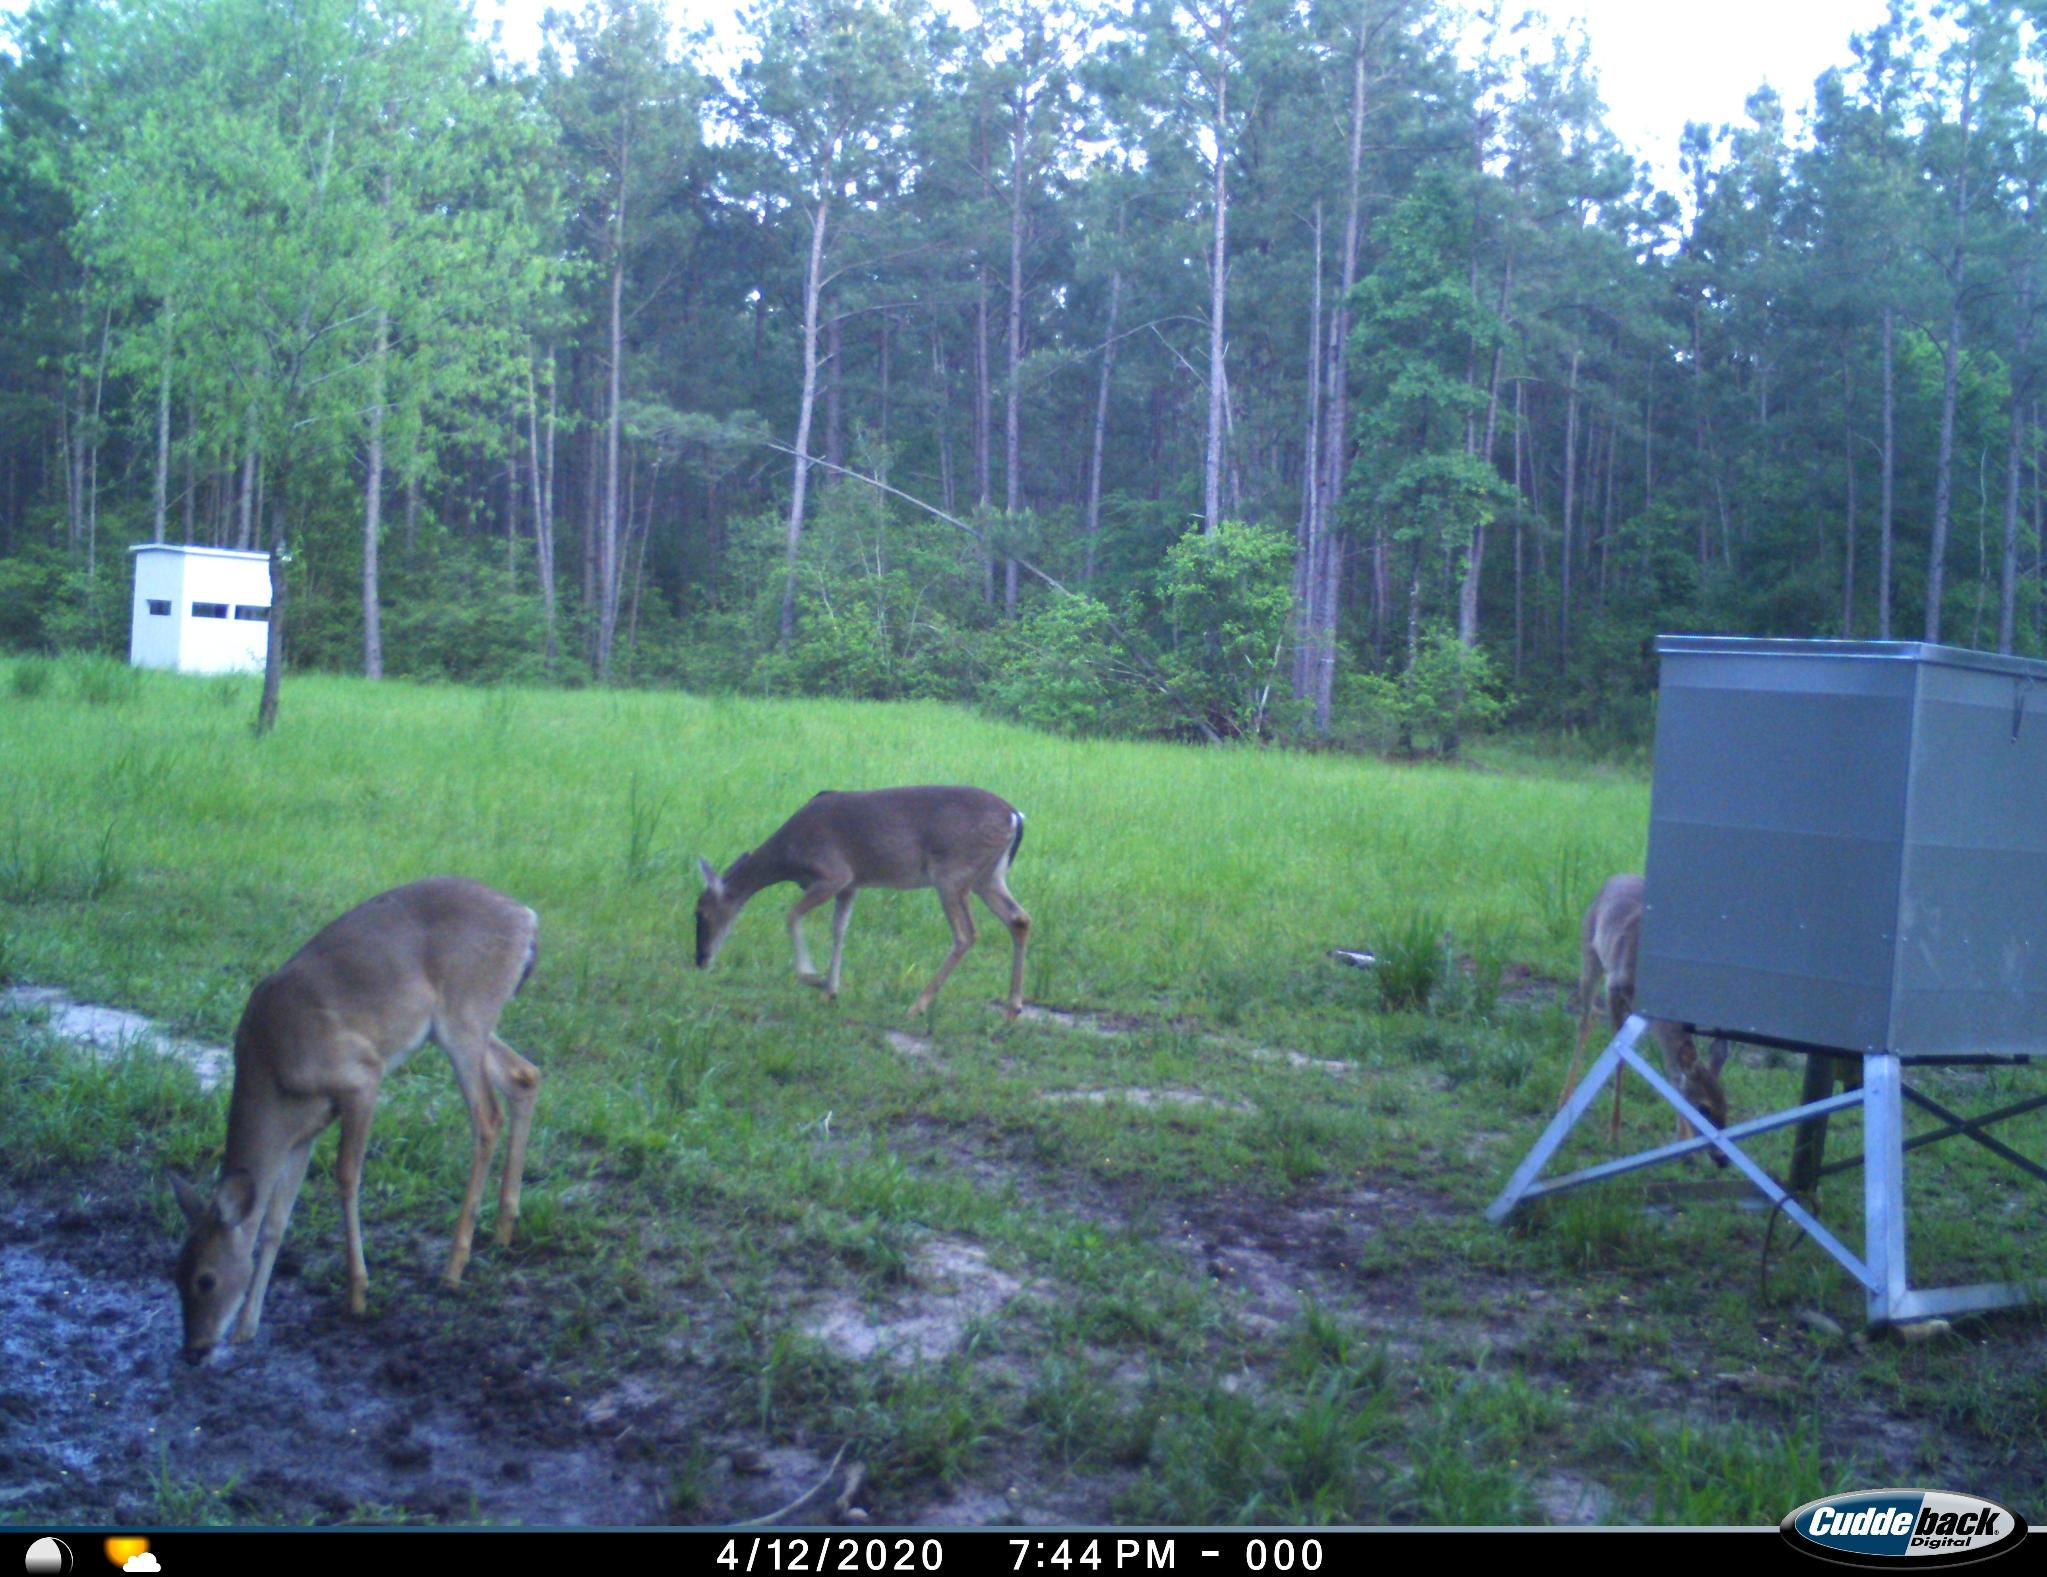Deer: (142, 861, 570, 1385), (676, 774, 1067, 1047), (1557, 860, 1751, 1194)
